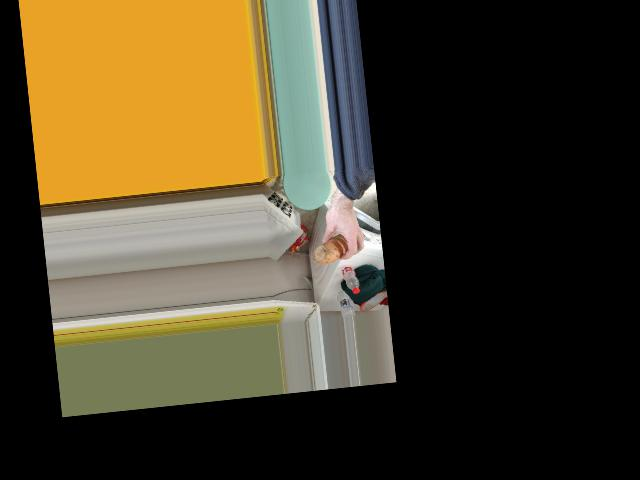sweet_potato: (318, 234, 348, 264)
